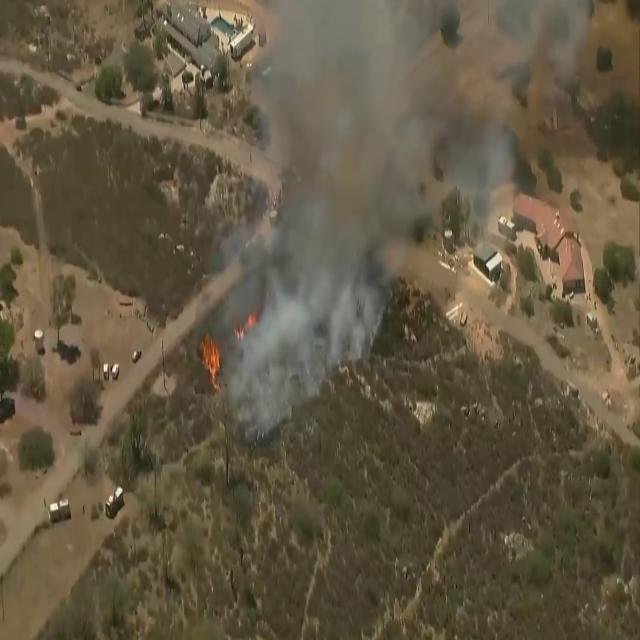Fire: (198, 326, 224, 389)
Smoke: (227, 0, 585, 383)
